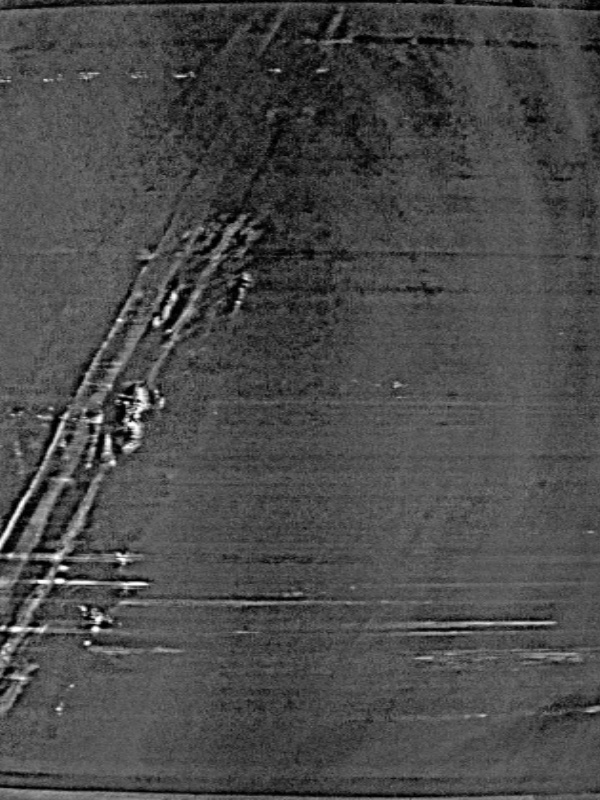splice_vulcanized: (1, 1, 344, 719)
